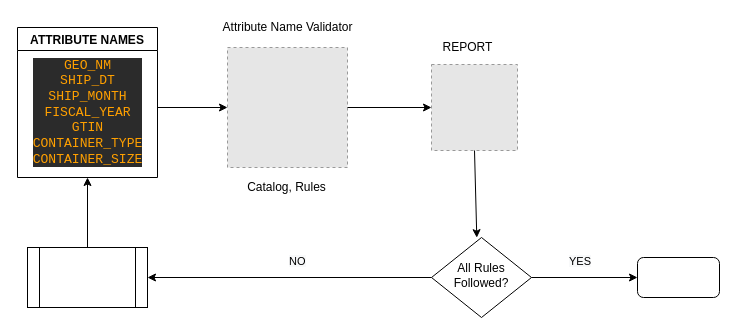
This 737x335 diagram has some shape labels left out. Grey dashed boxes stand in for pictures. Here are the shapes that lost their labels. From the top down, the centre of each, then its label:
At [87,277]: "Modify Names".
At [678,277]: "READY FOR DDL".
